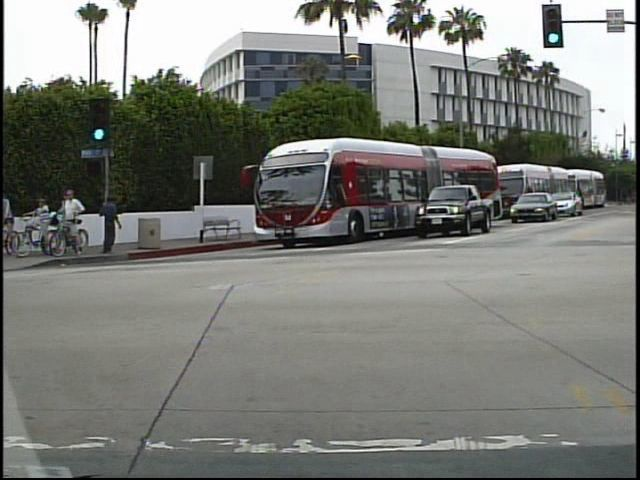person: (56, 187, 88, 256)
